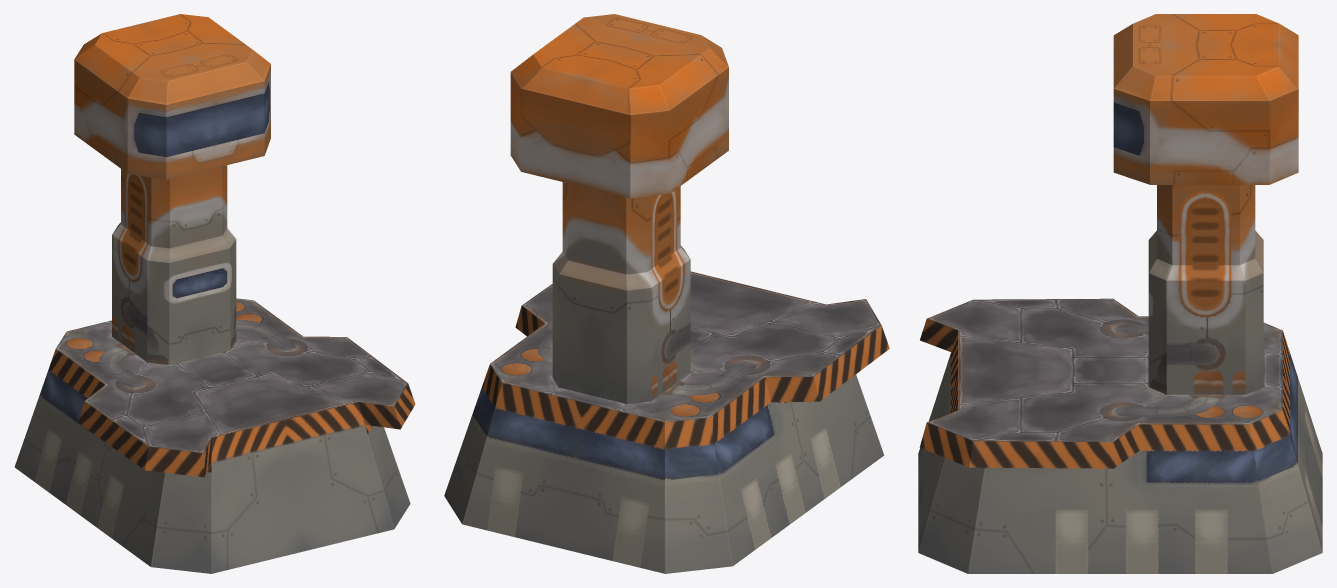
The model's file is base_engine_LOW.fbx.
The picture shows the model from 3 angles, left to right: view 1: azimuth 30°, elevation 25°; view 2: azimuth 150°, elevation 25°; view 3: azimuth 270°, elevation 25°; orthographic projection. The views are drawn at different scales.
Visible parts, largest first — view 1: base_engine_LOW; view 2: base_engine_LOW; view 3: base_engine_LOW.
Boxes of the visible parts, x1,y1,x2,y2 form: base_engine_LOW: (14, 14, 415, 573); base_engine_LOW: (444, 14, 889, 573); base_engine_LOW: (918, 14, 1322, 573).
Bounding box in the file's own units: 616 × 704 × 881.
